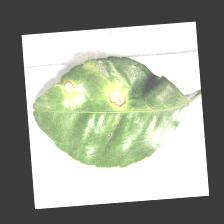canker: (46, 62, 136, 112)
